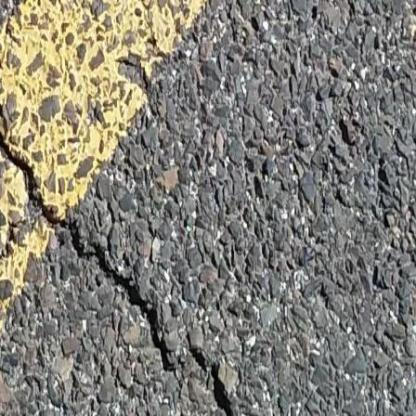Cracks: (0, 107, 250, 416)
